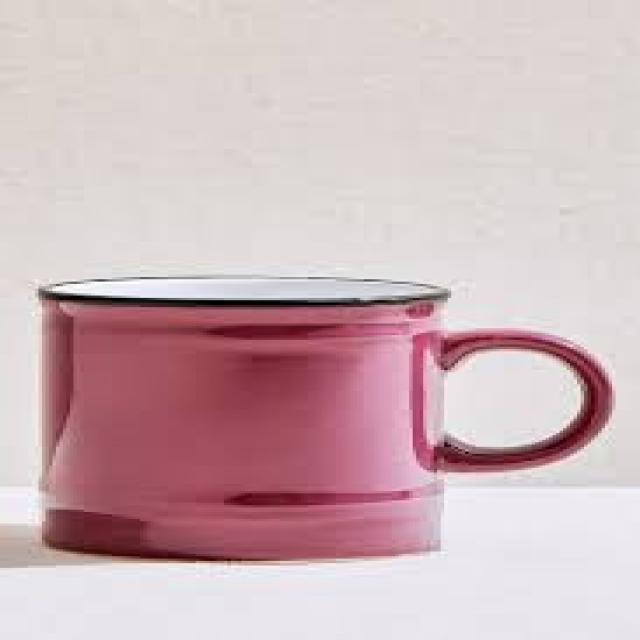taza: (33, 273, 614, 564)
